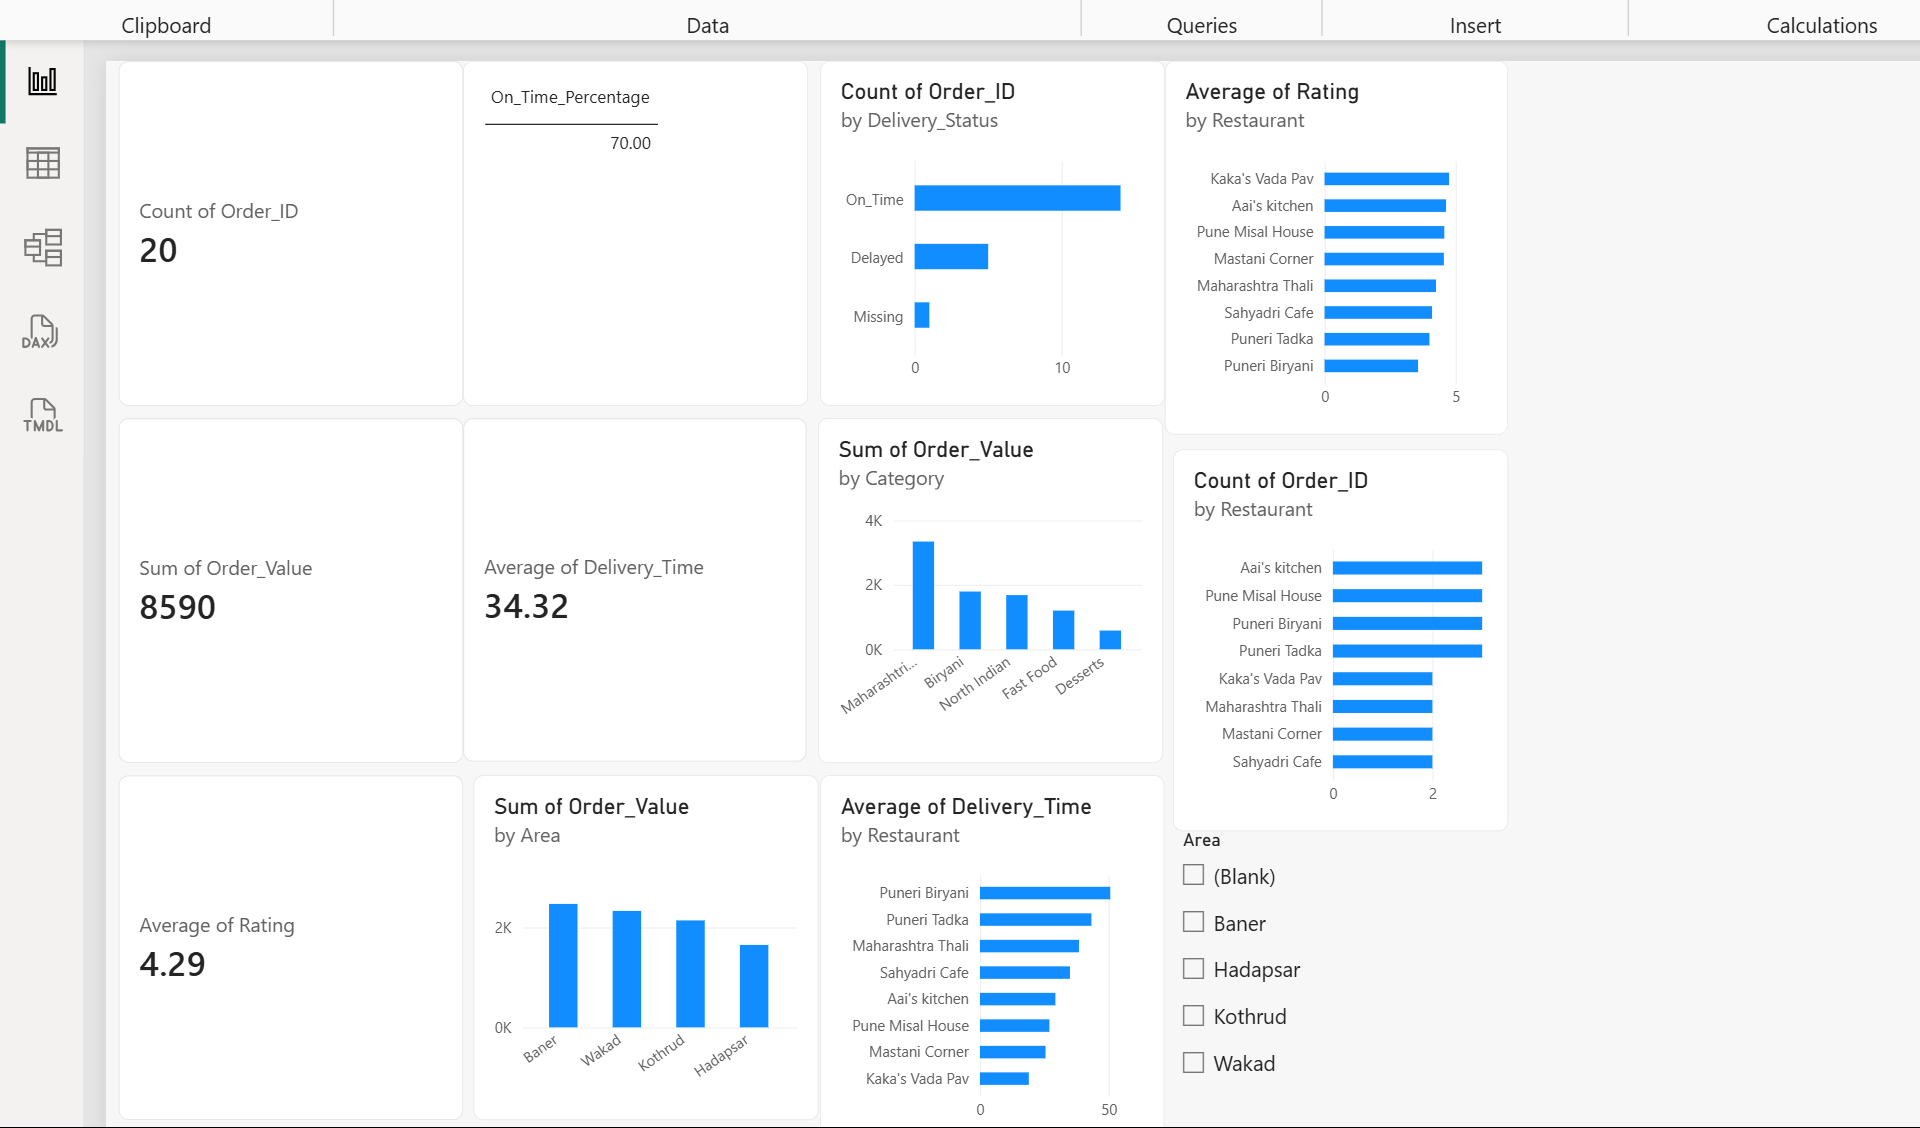

This screenshot's page, from the dashboard's own definition file:
{"tool":"powerbi","page":{"name":"Page 1","canvas":[1920,1080],"ordinal":0},"visuals":[{"type":"cardVisual","fields":{"Data":["CountNonNull(Cleaned_data.Order_ID)"]},"box":[10,0,280,280],"z":0},{"type":"cardVisual","fields":{"Data":["Sum(Cleaned_data.Order_Value)"]},"box":[10,290,280,280],"z":1000},{"type":"cardVisual","fields":{"Data":["Avg(Cleaned_data.Rating)"]},"box":[10,580,280,280],"z":2000},{"type":"cardVisual","fields":{"Data":["Avg(Cleaned_data.Delivery_Time)"]},"box":[10,870,280,210],"z":3000},{"type":"tableEx","fields":{"Values":["Cleaned_data.On_Time_Percentage"]},"box":[290,0,280,280],"z":3002},{"type":"clusteredColumnChart","fields":{"Category":["Cleaned_data.Area"],"Y":["Sum(Cleaned_data.Order_Value)"]},"box":[290,290,280,280],"z":3003},{"type":"clusteredBarChart","fields":{"Category":["Cleaned_data.Restaurant"],"Y":["CountNonNull(Cleaned_data.Order_ID)"]},"box":[290,580,280,290],"z":3008},{"type":"clusteredBarChart","fields":{"Category":["Cleaned_data.Delivery_Status"],"Y":["CountNonNull(Cleaned_data.Order_ID)"]},"box":[578.9,0,280,280],"z":3009},{"type":"clusteredBarChart","fields":{"Category":["Cleaned_data.Restaurant"],"Y":["Avg(Cleaned_data.Delivery_Time)"]},"box":[580,290,280,280],"z":3010},{"type":"clusteredBarChart","fields":{"Category":["Cleaned_data.Restaurant"],"Y":["Avg(Cleaned_data.Rating)"]},"box":[580,580,280,290],"z":3011},{"type":"clusteredColumnChart","fields":{"Category":["Cleaned_data.Category"],"Y":["Sum(Cleaned_data.Order_Value)"]},"box":[870,0,280,280],"z":3012},{"type":"slicer","fields":{"Values":["Cleaned_data.Area"]},"box":[870,290,280,280],"z":3013}]}

Visuals, with their boxes on the page's 1920x1080 design canvas (x1, y1, x2, y2). These are canvas units, not pixel positions in the 1920x1128 screenshot, which may show the page scaled, cropped or inside an application window:
cardVisual - CountNonNull(Cleaned_data.Order_ID): locate(10, 0, 290, 280)
cardVisual - Sum(Cleaned_data.Order_Value): locate(10, 290, 290, 570)
cardVisual - Avg(Cleaned_data.Rating): locate(10, 580, 290, 860)
cardVisual - Avg(Cleaned_data.Delivery_Time): locate(10, 870, 290, 1080)
tableEx - Cleaned_data.On_Time_Percentage: locate(290, 0, 570, 280)
clusteredColumnChart - Cleaned_data.Area x Sum(Cleaned_data.Order_Value): locate(290, 290, 570, 570)
clusteredBarChart - Cleaned_data.Restaurant x CountNonNull(Cleaned_data.Order_ID): locate(290, 580, 570, 870)
clusteredBarChart - Cleaned_data.Delivery_Status x CountNonNull(Cleaned_data.Order_ID): locate(579, 0, 859, 280)
clusteredBarChart - Cleaned_data.Restaurant x Avg(Cleaned_data.Delivery_Time): locate(580, 290, 860, 570)
clusteredBarChart - Cleaned_data.Restaurant x Avg(Cleaned_data.Rating): locate(580, 580, 860, 870)
clusteredColumnChart - Cleaned_data.Category x Sum(Cleaned_data.Order_Value): locate(870, 0, 1150, 280)
slicer - Cleaned_data.Area: locate(870, 290, 1150, 570)
